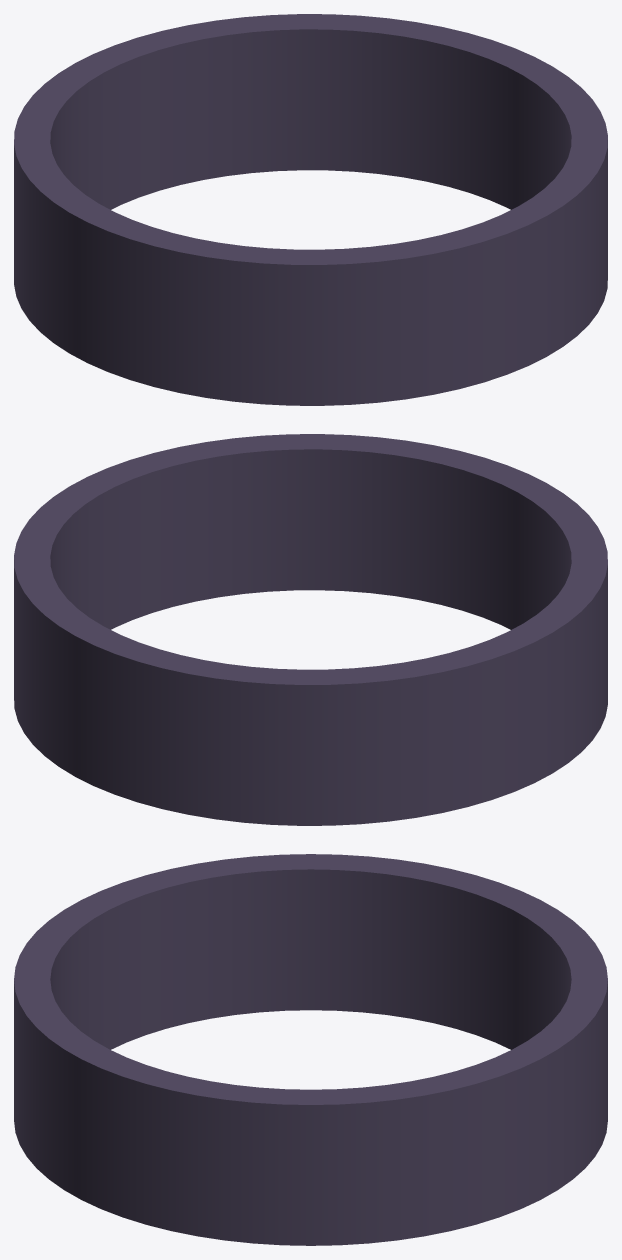
The model's file is Inner_0.fbx.
3 views of the same model, one above another, from view 1: azimuth 30°, elevation 25°; view 2: azimuth 150°, elevation 25°; view 3: azimuth 270°, elevation 25° (orthographic).
Visible parts, largest first — view 1: Inner_0; view 2: Inner_0; view 3: Inner_0.
Part boxes in pixels (x1,y1,x2,y2): Inner_0: (14,14,607,405); Inner_0: (14,434,607,825); Inner_0: (14,854,607,1245).
Size of the model in its own units: 133 by 34.73 by 133.
